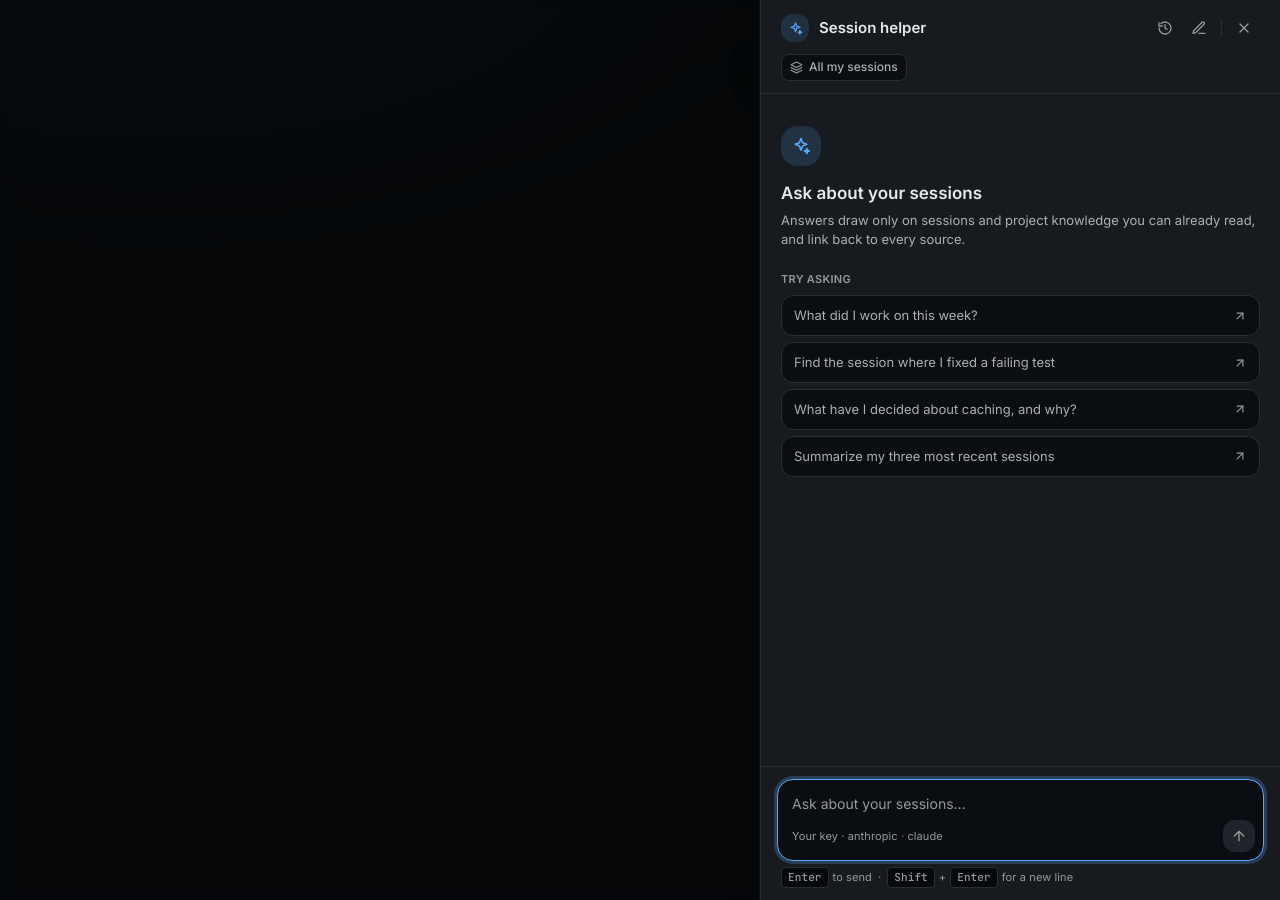
HelperPanel — streaming › assembles text split across stream chunks
The width and height of the screenshot is (1280, 900).
Type "hi" into the text box named "Ask the session helper" at (1020, 800), box left=778, top=780, right=1263, bottom=820
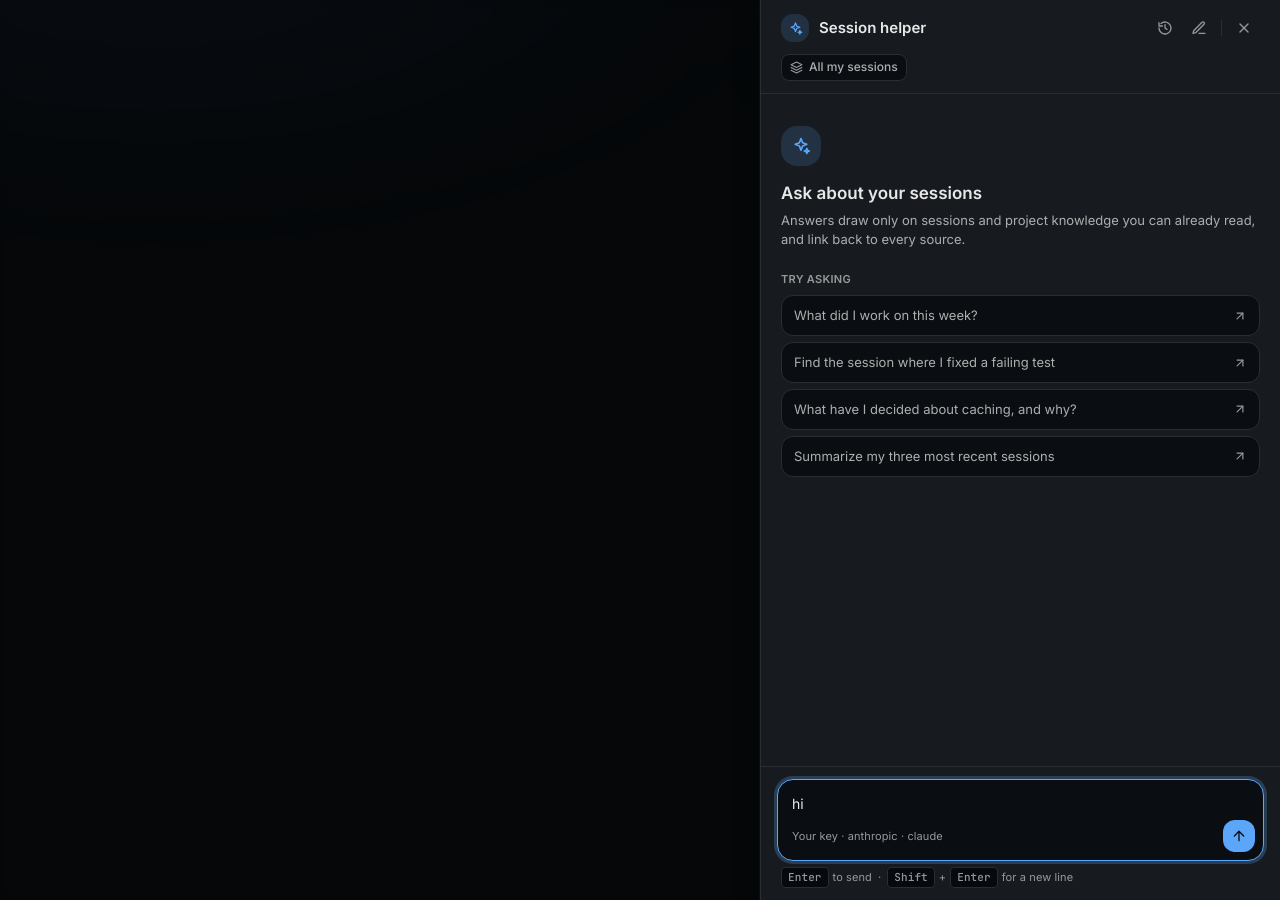
Press Enter
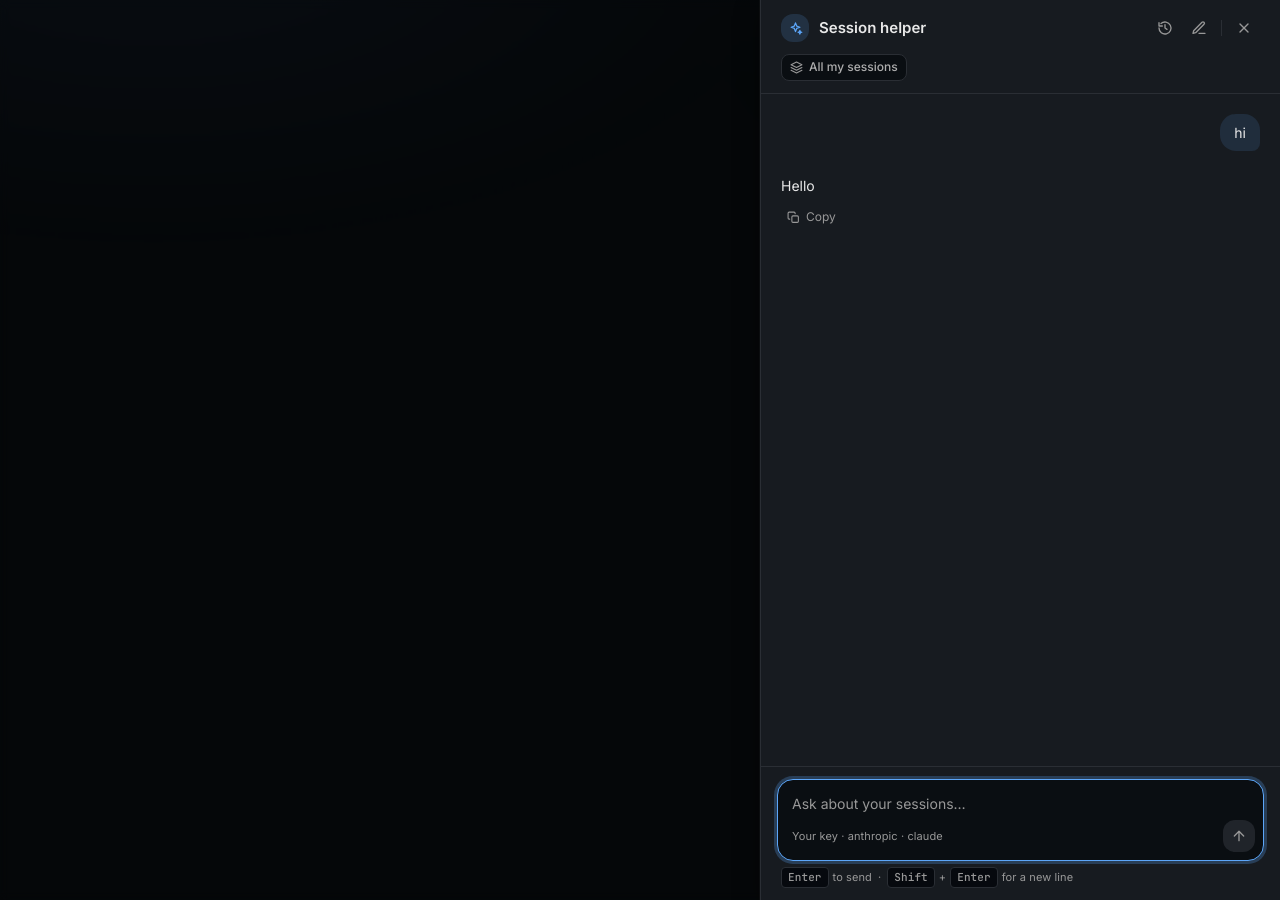
Now the text "Hello" is shown, box left=781, top=177, right=815, bottom=194
